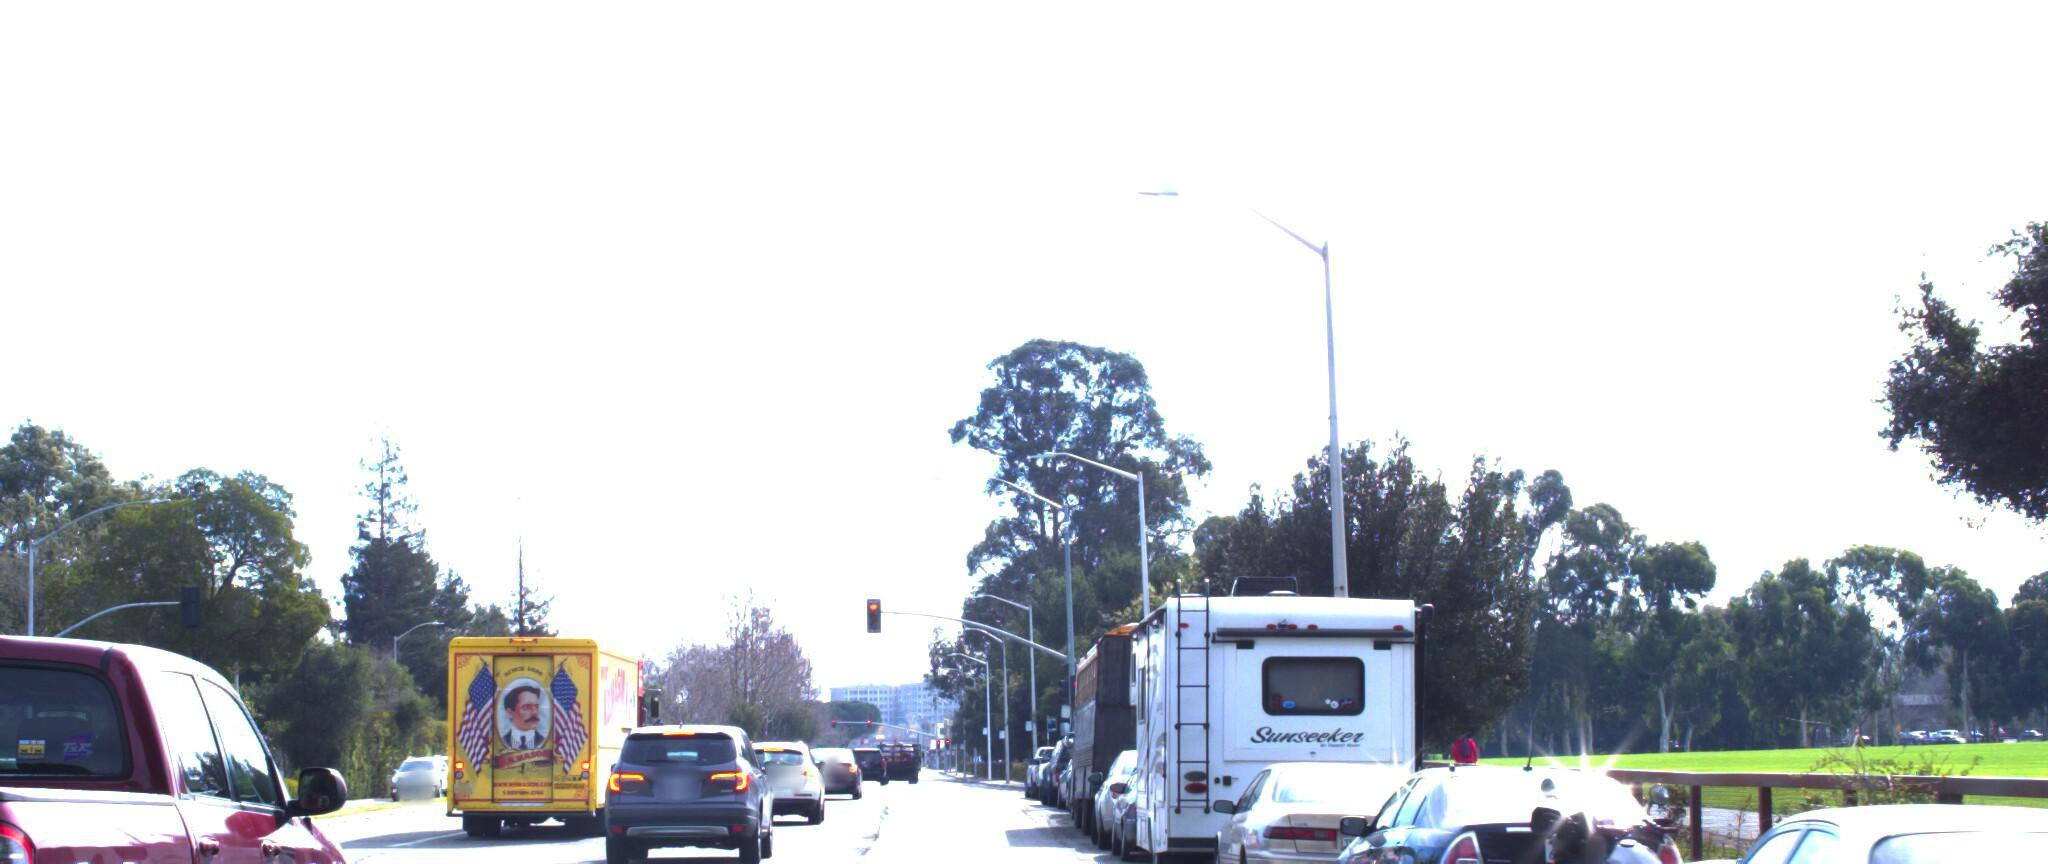bus: (1055, 608, 1272, 820)
car: (0, 590, 387, 864), (1287, 750, 1732, 864), (1566, 783, 2048, 864), (1203, 748, 1456, 864), (592, 710, 778, 859), (728, 720, 829, 810), (1963, 801, 2048, 864)
motorcycle: (1424, 762, 1883, 864)
other_vehicle: (1109, 548, 1452, 864)
truck: (448, 615, 664, 829)
